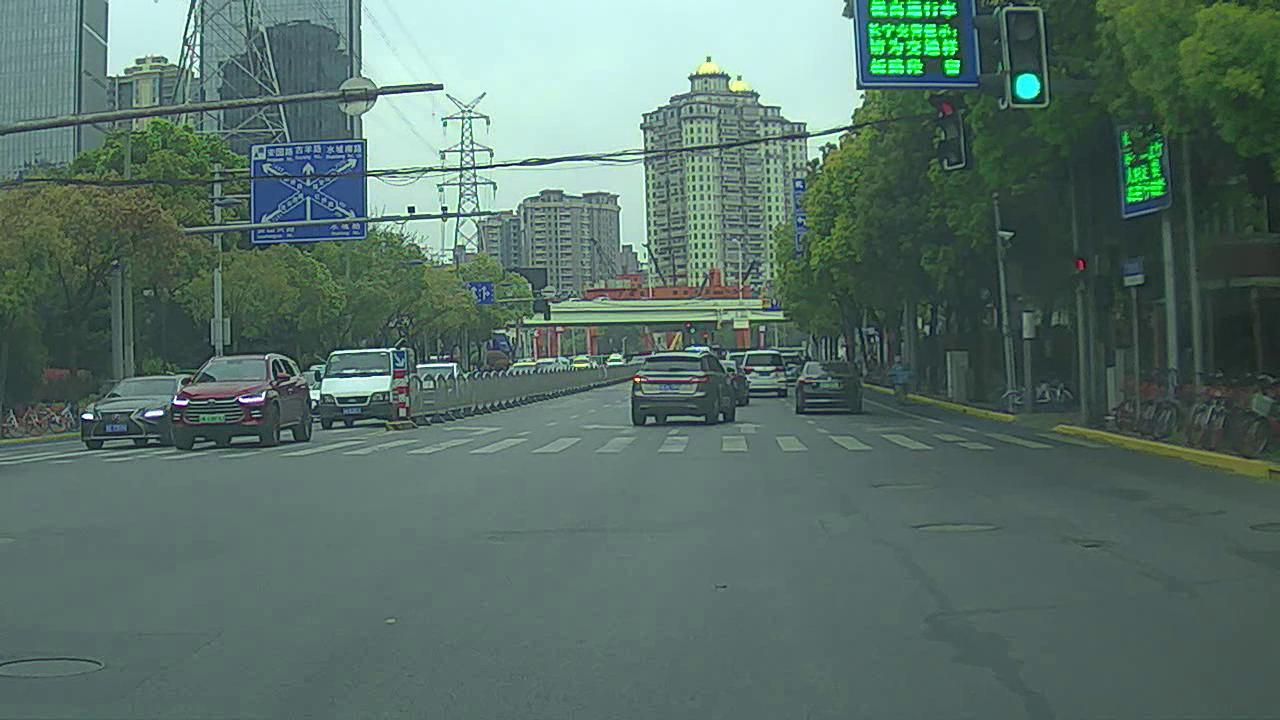traffic_light: (1005, 13, 1054, 112)
